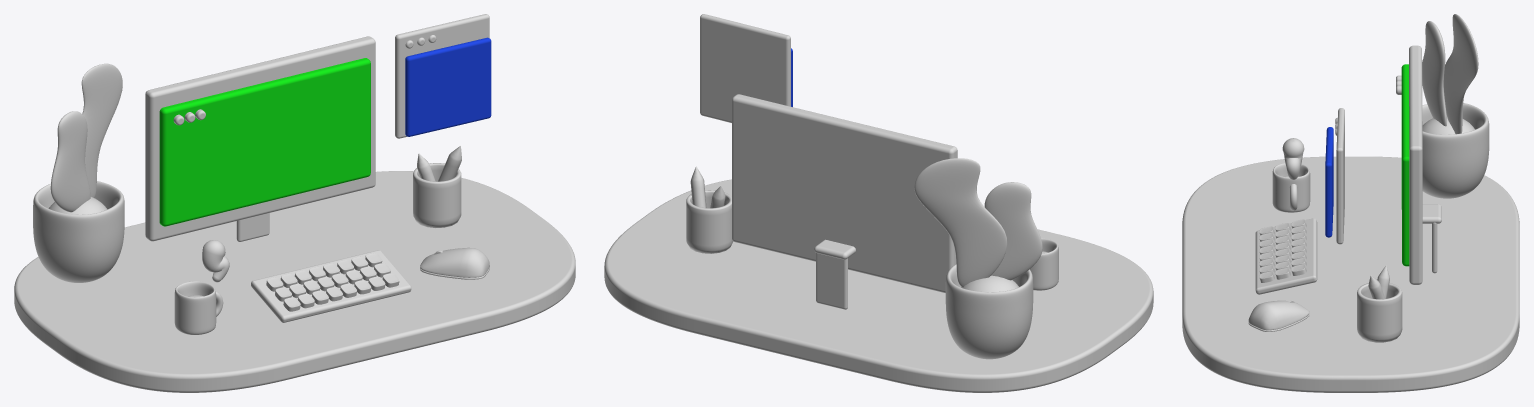
The model's file is pcdemo_m.glb.
The picture shows the model from 3 angles, left to right: view 1: azimuth 30°, elevation 25°; view 2: azimuth 150°, elevation 25°; view 3: azimuth 270°, elevation 25°; orthographic projection. The views are drawn at different scales.
Visible parts, largest first — view 1: Rectangle, Cube 10, Cube.004, Cube 27, Cube 37, Keyboard, Cube 26, Cube 36, Cube 35, Cube 9, Cylinder, Cube 17 (+4 smaller); view 2: Rectangle, Cube.004, Cube 26, Cube 35, Cube 37, Cube 36, Cylinder, Cube.003, Cube 17, Cube 38, Cube 16, Cube 2; view 3: Rectangle, Cube 37, Cube.004, Cube 35, Keyboard, Cylinder, Cube 36, Cube 9, Cube 10, Cube.002, Cube 17, Cube 26 (+5 smaller).
Boxes of the visible parts, x1,y1,x2,y2 form: Rectangle: [14, 171, 575, 392]; Cube 10: [159, 58, 370, 226]; Cube.004: [145, 36, 375, 241]; Cube 27: [405, 37, 491, 136]; Cube 37: [33, 181, 124, 282]; Keyboard: [266, 253, 399, 311]; Cube 26: [395, 14, 489, 138]; Cube 36: [50, 111, 90, 212]; Cube 35: [81, 63, 122, 197]; Cube 9: [251, 250, 411, 322]; Cylinder: [413, 163, 461, 227]; Cube 17: [174, 281, 216, 334]; Rectangle: [604, 179, 1153, 392]; Cube.004: [732, 94, 957, 292]; Cube 26: [700, 14, 790, 122]; Cube 35: [914, 158, 1007, 287]; Cube 37: [945, 264, 1033, 359]; Cube 36: [984, 182, 1042, 280]; Cylinder: [686, 190, 733, 253]; Cube.003: [816, 253, 847, 309]; Cube 17: [1029, 238, 1058, 290]; Cube 38: [961, 275, 1018, 292]; Cube 16: [814, 239, 855, 259]; Cube 2: [690, 166, 706, 207]; Rectangle: [1182, 156, 1519, 392]; Cube 37: [1422, 103, 1489, 198]; Cube.004: [1409, 45, 1422, 284]; Cube 35: [1443, 14, 1478, 134]; Keyboard: [1259, 219, 1306, 282]; Cylinder: [1357, 283, 1402, 342]; Cube 36: [1422, 21, 1446, 126]; Cube 9: [1255, 218, 1317, 294]; Cube 10: [1401, 64, 1409, 266]; Cube.002: [1248, 300, 1309, 331]; Cube 17: [1272, 163, 1310, 212]; Cube 26: [1336, 108, 1344, 244].
Size of the model in its own units: 13.39 by 6.2 by 8.61.
